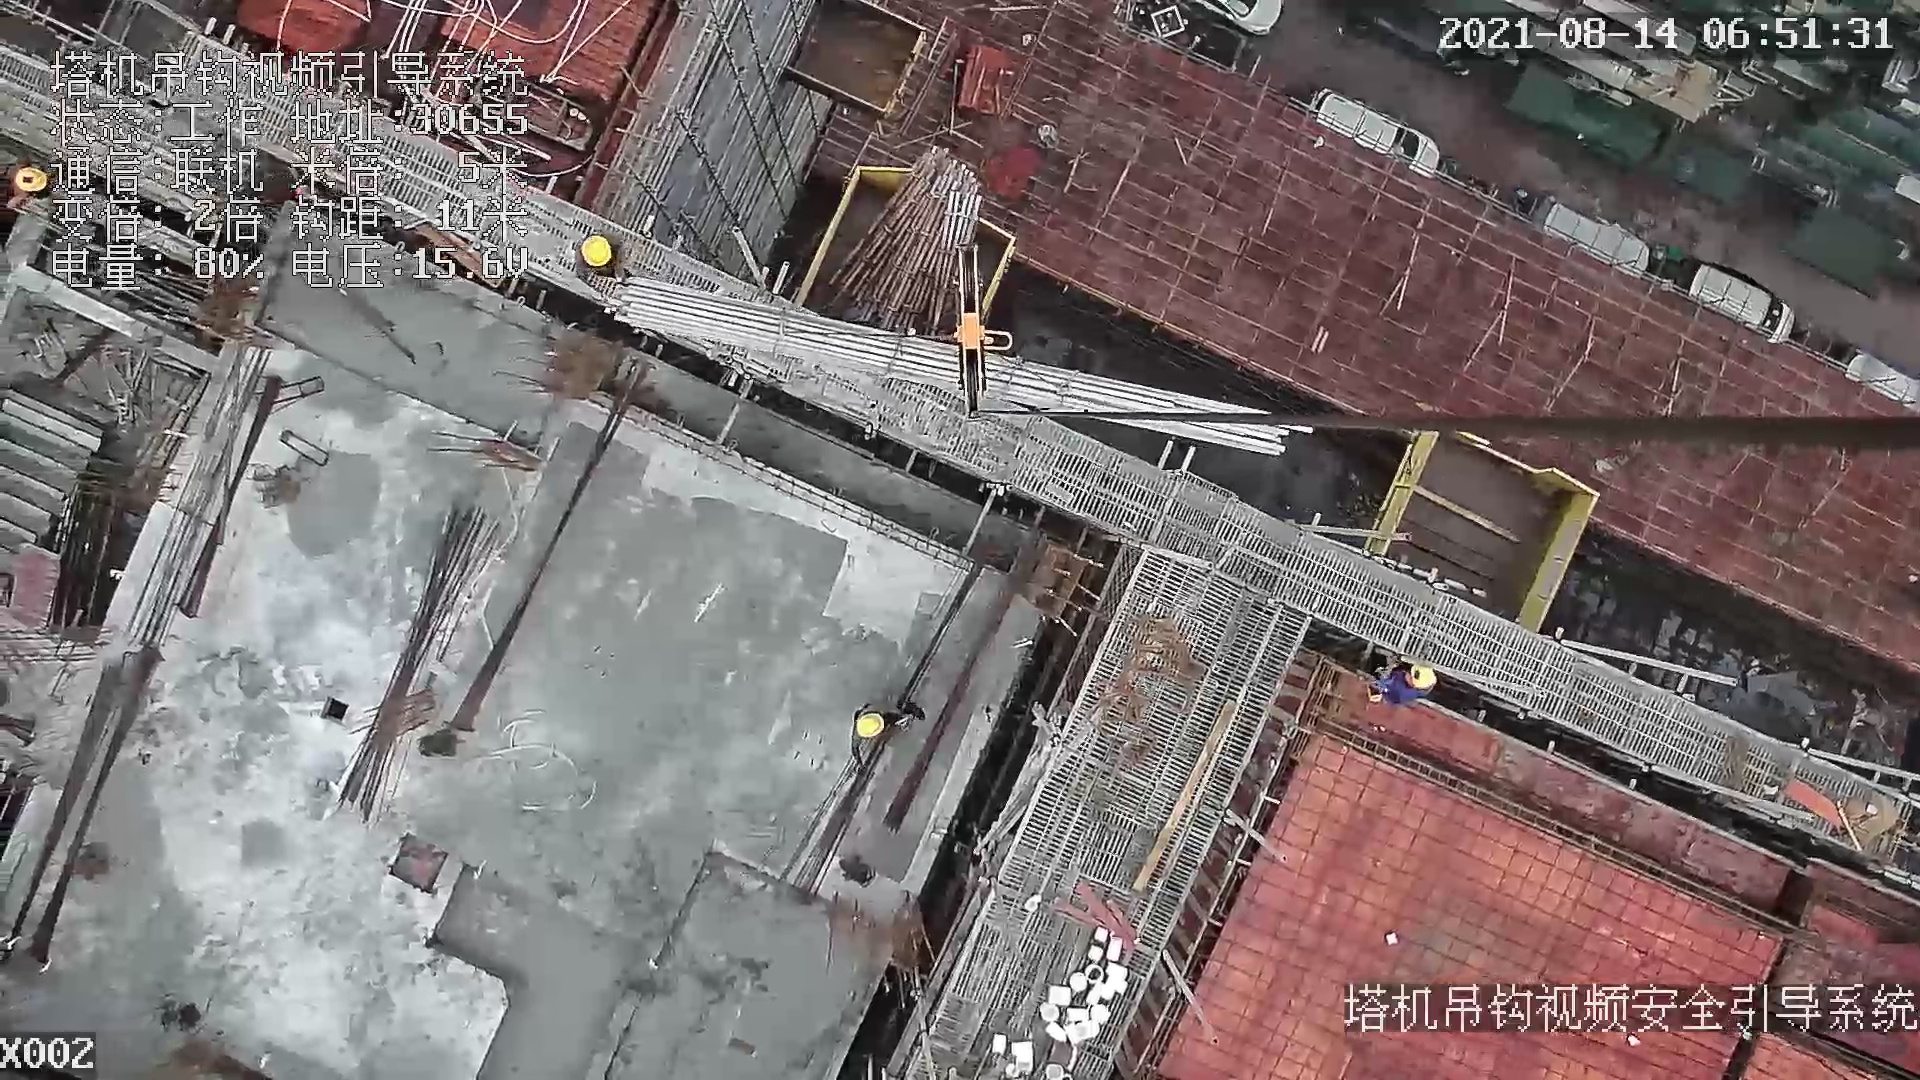helmet: (576, 236, 613, 270), (854, 713, 887, 741), (16, 166, 47, 191), (1408, 664, 1435, 689)
hook: (940, 232, 1027, 413)
person: (846, 692, 926, 765), (1364, 649, 1440, 712), (565, 228, 633, 289), (4, 150, 42, 216)
rebar: (609, 277, 1309, 454), (333, 503, 512, 831)
scaffold: (828, 143, 973, 333)
